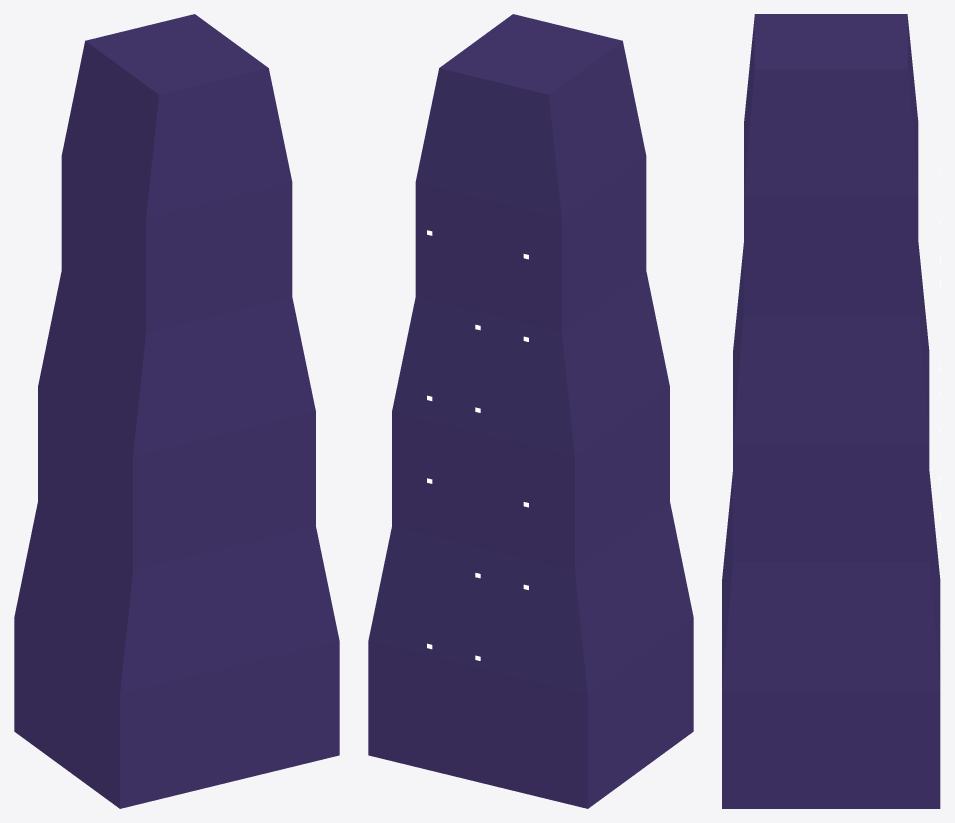
File: 05_setback_hotel_72m.glb
The picture shows the model from 3 angles, left to right: view 1: azimuth 30°, elevation 25°; view 2: azimuth 150°, elevation 25°; view 3: azimuth 270°, elevation 25°; orthographic projection. The views are drawn at different scales.
Parts seen in each view (by area): view 1: body; view 2: body; view 3: body.
Boxes of the visible parts, left/top/right/bottom form: body: left=14, top=14, right=339, bottom=808; body: left=368, top=14, right=693, bottom=808; body: left=722, top=14, right=940, bottom=808.
Size of the model in its own units: 24 by 72 by 20.06.
